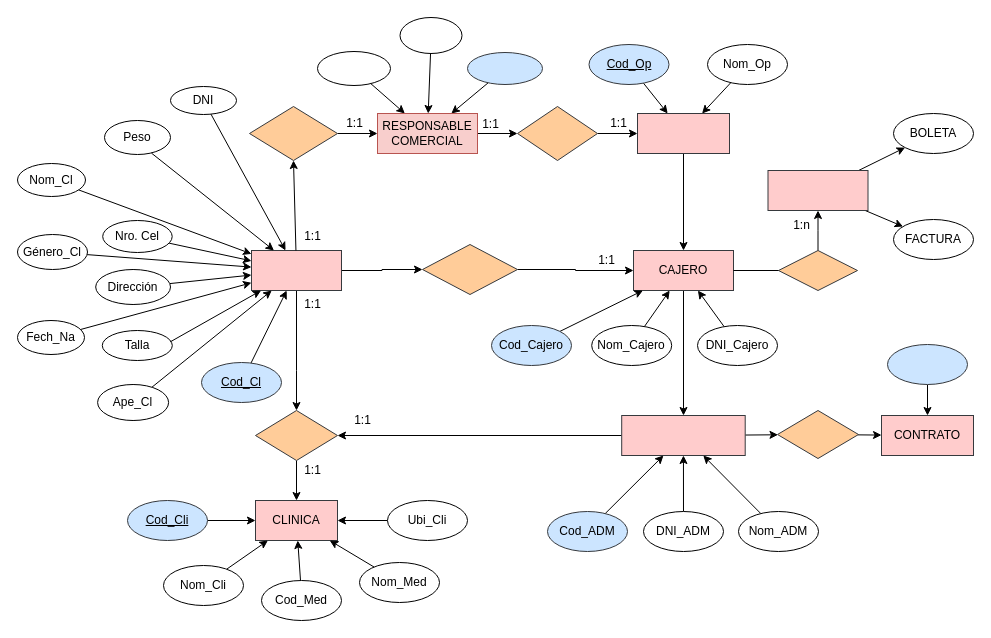
This 991x638 diagram has some shape labels left out. Here are the shapes that lost their labels. From the top down, the box of each, then its label:
(399, 16, 462, 54): Ape_RC
(316, 50, 390, 86): Nom_RC
(466, 52, 542, 84): Cod_RC
(248, 106, 338, 160): Consulta
(516, 106, 598, 160): Solicita
(636, 112, 730, 154): SERVICIO
(767, 170, 868, 210): COMPROBANTE DE PAGO
(250, 250, 342, 290): CLIENTE
(422, 244, 518, 294): Cancelar
(778, 250, 858, 290): Emite
(886, 344, 968, 384): Cod_Con
(254, 410, 338, 460): Referido
(621, 414, 745, 456): ADMINISTRACION
(776, 410, 858, 458): Genera
